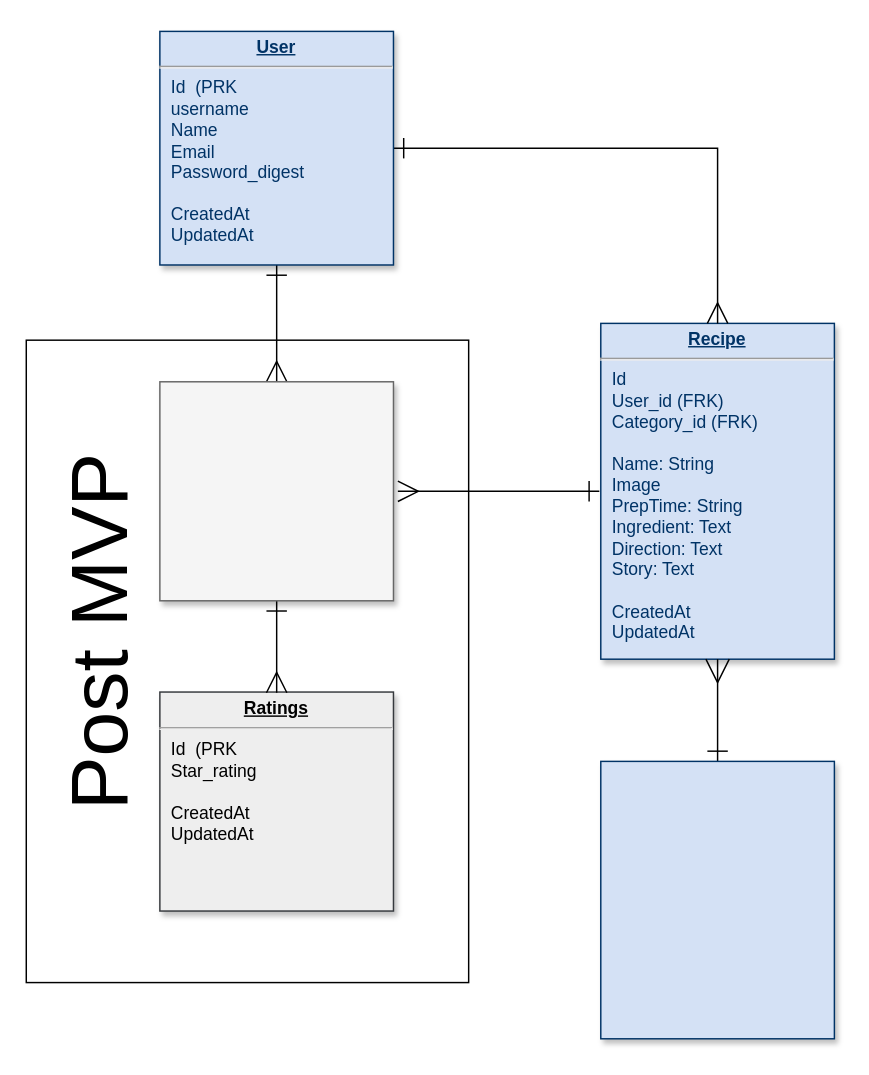
This 869x1075 diagram has some shape labels left out. The centre of each missing label's shape, as x and y in pixels:
"Category Id Group: Sring Subgroup: String CreatedAt UpdatedAt" goes at pixel 718 901.
"Join Id (PRK User_id Recipe_id CreatedAt UpdatedAt" goes at pixel 277 492.
